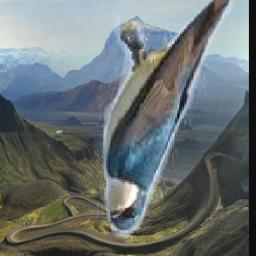Swallow: (98, 0, 239, 243)
